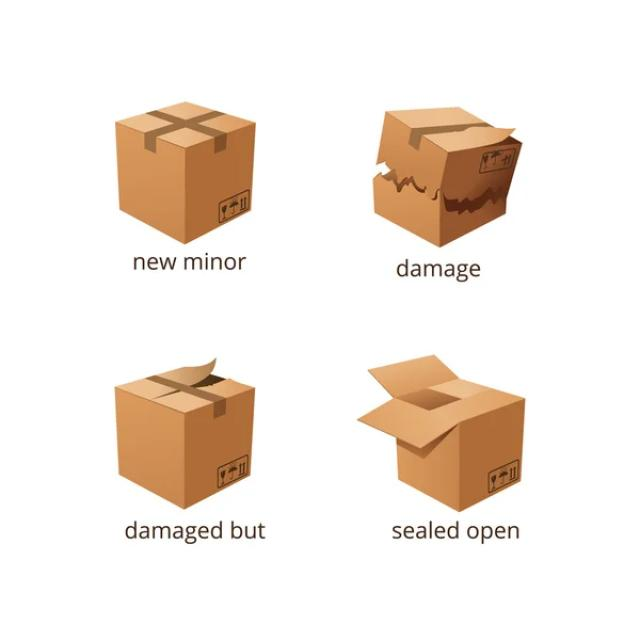Kardus kondisi bagus: (114, 92, 275, 254)
Kardus kondisi rusak: (352, 348, 562, 518), (110, 355, 264, 514), (371, 103, 528, 252)
